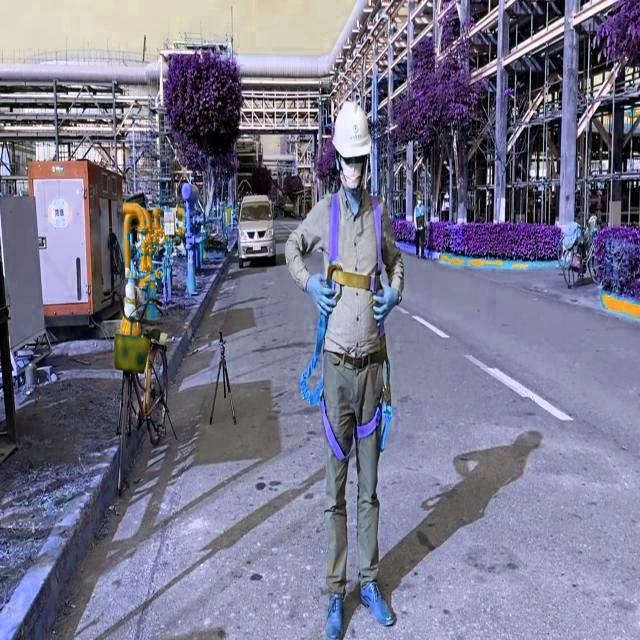safety belt: (314, 181, 404, 464)
